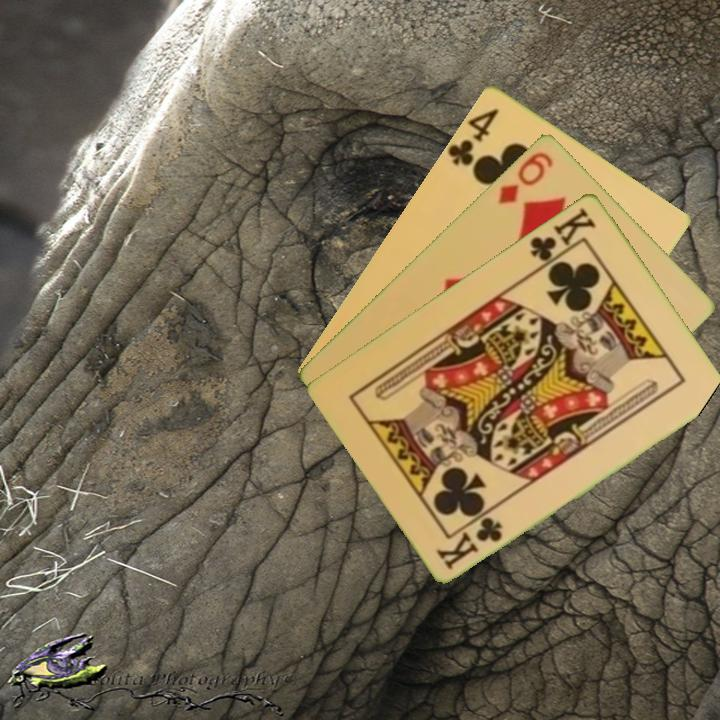4c: (444, 104, 502, 168)
6d: (494, 147, 556, 207)
Kc: (526, 203, 599, 271), (434, 512, 506, 573)
